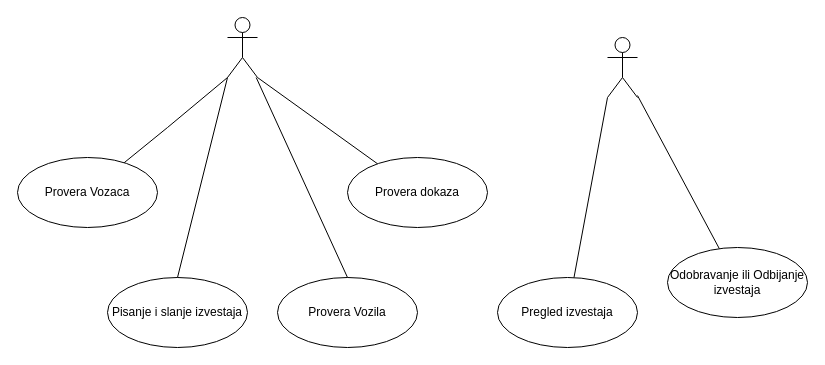
This 825x365 diagram has some shape labels left out. Here are the shapes that lost their labels. From the top down, the centre of each, then its label:
point 242,47: Policajac
point 622,67: Administrator
